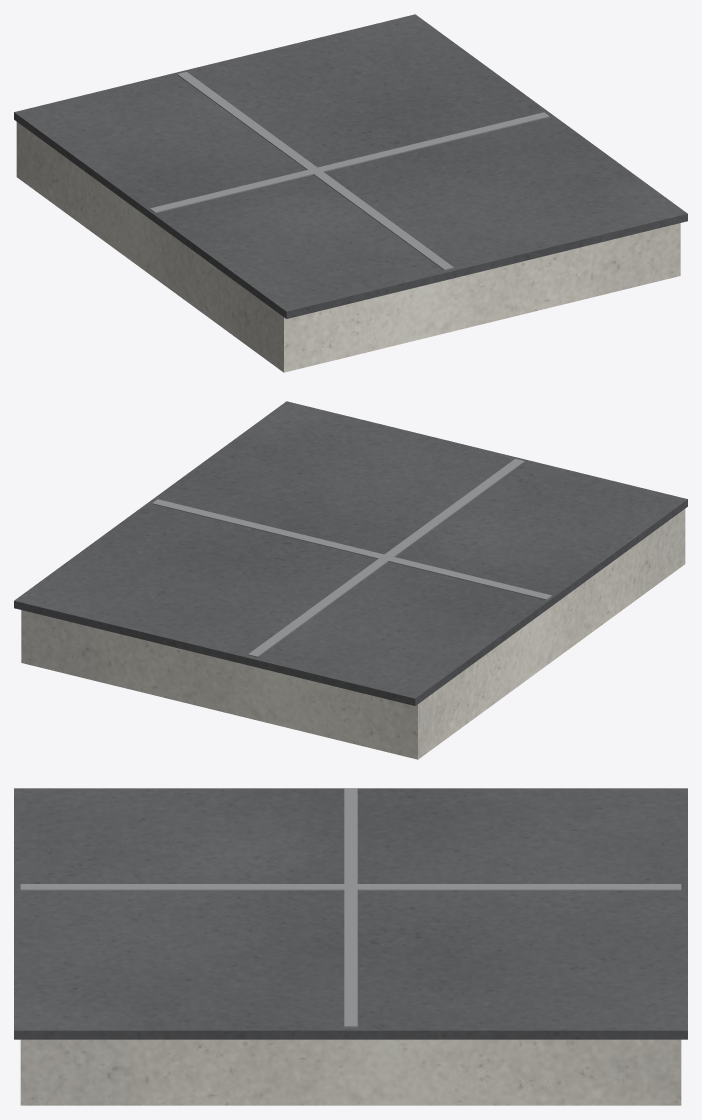
File: floor_membrane_r_e1000_h3.glb
3 views of the same model, one above another, from view 1: azimuth 30°, elevation 25°; view 2: azimuth 150°, elevation 25°; view 3: azimuth 270°, elevation 25° (orthographic). The views are drawn at different scales.
Visible parts, largest first — view 1: floor_membrane_r_e1000_h3_membrane, floor_membrane_r_e1000_h3_plaster, floor_membrane_r_e1000_h3_seam; view 2: floor_membrane_r_e1000_h3_membrane, floor_membrane_r_e1000_h3_plaster, floor_membrane_r_e1000_h3_seam; view 3: floor_membrane_r_e1000_h3_membrane, floor_membrane_r_e1000_h3_plaster, floor_membrane_r_e1000_h3_seam.
Part boxes in pixels (x1,y1,x2,y2): floor_membrane_r_e1000_h3_membrane: [14, 14, 687, 318]; floor_membrane_r_e1000_h3_plaster: [16, 122, 680, 372]; floor_membrane_r_e1000_h3_seam: [150, 71, 549, 270]; floor_membrane_r_e1000_h3_membrane: [14, 401, 687, 705]; floor_membrane_r_e1000_h3_plaster: [21, 509, 685, 759]; floor_membrane_r_e1000_h3_seam: [152, 458, 551, 657]; floor_membrane_r_e1000_h3_membrane: [14, 788, 687, 1039]; floor_membrane_r_e1000_h3_plaster: [20, 1039, 681, 1105]; floor_membrane_r_e1000_h3_seam: [20, 788, 681, 1027].
Size of the model in its own units: 1.7 by 0.259 by 2.
3 materials, 2 textured.
